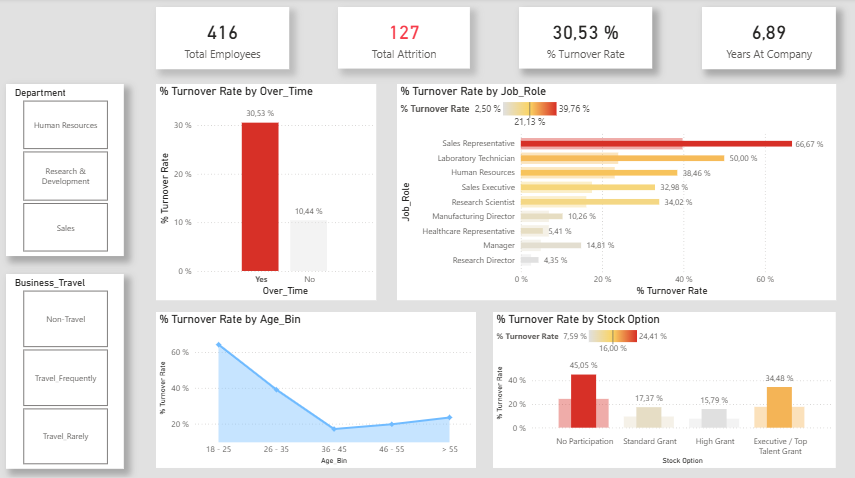

Layout of this report page (visuals, bound fields, positions):
{"tool":"powerbi","page":{"name":"Turnover analysis","canvas":[1280,720],"ordinal":1},"visuals":[{"type":"slicer","fields":{"Values":["Dim_JobDetails.Department"]},"box":[10.5,128.5,176.3,256.9],"z":0},{"type":"slicer","fields":{"Values":["Dim_JobDetails.Business_Travel"]},"box":[10.5,412.3,176.3,291.3],"z":1000},{"type":"card","fields":{"Values":["_Measures.% Turnover Rate"]},"box":[777.4,13.4,199.3,92.3],"z":2000,"group":"g1"},{"type":"card","fields":{"Values":["_Measures.Total Attrition"]},"box":[506.7,13.4,197.4,92.3],"z":3000,"group":"g1"},{"type":"card","fields":{"Values":["_Measures.Years At Company"]},"box":[1050,13.4,200.3,92.6],"z":4000,"group":"g1"},{"type":"card","title":"Total Empoyees","fields":{"Values":["_Measures.Total Employees"]},"box":[234.5,13.4,198.8,92.6],"z":5000,"group":"g1"},{"type":"clusteredColumnChart","title":"% Turnover Rate by Over_Time","fields":{"Category":["Dim_Satisfaction.Over_Time"],"Y":["_Measures.% Turnover Rate"]},"box":[234.5,128.5,328.6,322.7],"z":6000},{"type":"clusteredBarChart","title":"% Turnover Rate by Job_Role","fields":{"Category":["Dim_JobDetails.Job_Role"],"Y":["_Measures.% Turnover Rate"]},"box":[594.5,128.5,655.8,322.7],"z":7000},{"type":"areaChart","title":"% Turnover Rate by Age_Bin","fields":{"Category":["Dim_Employee.Age_Bin"],"Y":["_Measures.% Turnover Rate"]},"box":[234.5,469,478,233],"z":8000},{"type":"clusteredColumnChart","title":"% Turnover Rate by Stock Option","fields":{"Category":["Dim_PerformancePay.Stock_Option_Level_Description"],"Y":["_Measures.% Turnover Rate"]},"box":[737.9,469,512.4,233],"z":9000},{"type":"group","id":"g1","title":"Grupo 1","box":[234.5,13.4,1015.8,92.6],"z":9001}]}

Visuals, with their boxes in screenshot pixels (x1, y1, x2, y2), scaled from the page's 1280x720 canvas onto the 855x478 screenshot:
slicer - Dim_JobDetails.Department: <box>7,85,125,256</box>
slicer - Dim_JobDetails.Business_Travel: <box>7,274,125,467</box>
card - _Measures.% Turnover Rate: <box>519,9,652,70</box>
card - _Measures.Total Attrition: <box>338,9,470,70</box>
card - _Measures.Years At Company: <box>701,9,835,70</box>
"Total Empoyees" card: <box>157,9,289,70</box>
"% Turnover Rate by Over_Time" clusteredColumnChart: <box>157,85,376,300</box>
"% Turnover Rate by Job_Role" clusteredBarChart: <box>397,85,835,300</box>
"% Turnover Rate by Age_Bin" areaChart: <box>157,311,476,466</box>
"% Turnover Rate by Stock Option" clusteredColumnChart: <box>493,311,835,466</box>
"Grupo 1" group: <box>157,9,835,70</box>
